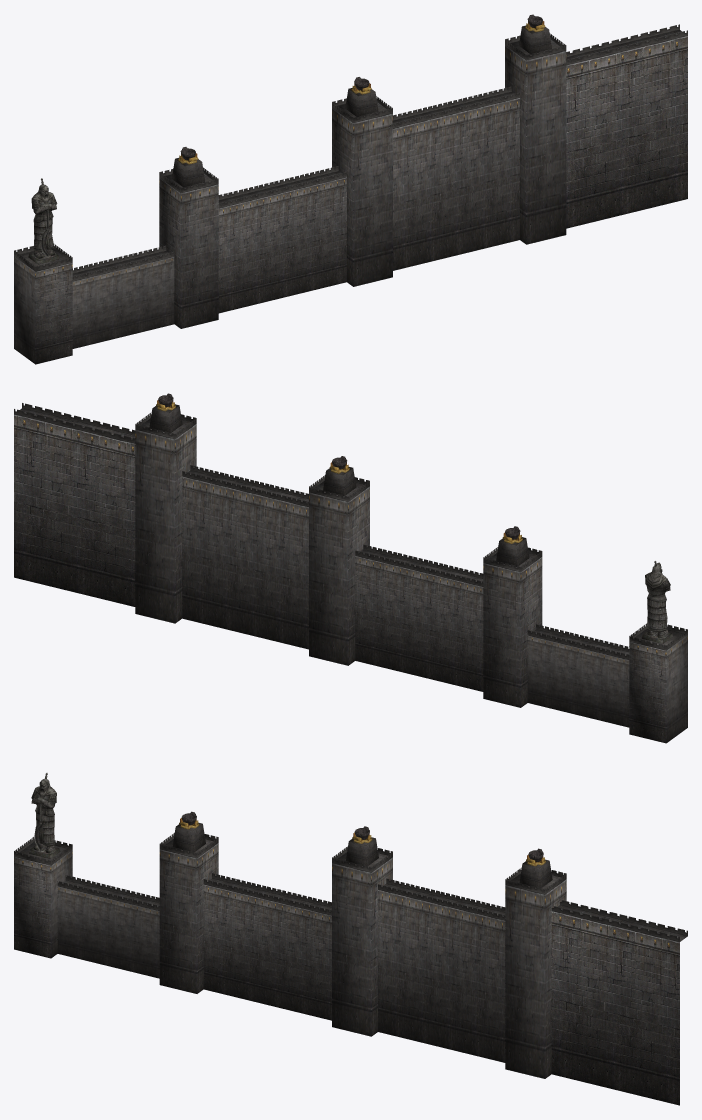
File: c_jin_wall3_orwall2.glb
The picture shows the model from 3 angles, top to bottom: view 1: azimuth 30°, elevation 25°; view 2: azimuth 150°, elevation 25°; view 3: azimuth 330°, elevation 25°; orthographic projection.
Parts seen in each view (by area): view 1: C_jin_wall3_orwall2, C_jin_wall3_ealpha2, C_jin_wall3_master2, C_jin_wall3_fire2; view 2: C_jin_wall3_orwall2, C_jin_wall3_ealpha2, C_jin_wall3_master2, C_jin_wall3_fire2; view 3: C_jin_wall3_orwall2, C_jin_wall3_ealpha2, C_jin_wall3_master2, C_jin_wall3_fire2.
Part boxes in pixels (x1,y1,x2,y2): C_jin_wall3_orwall2: (14,25,687,364); C_jin_wall3_ealpha2: (14,24,687,281); C_jin_wall3_master2: (28,178,59,264); C_jin_wall3_fire2: (178,14,545,164); C_jin_wall3_orwall2: (14,404,687,743); C_jin_wall3_ealpha2: (14,403,687,659); C_jin_wall3_master2: (641,561,672,643); C_jin_wall3_fire2: (156,393,522,543); C_jin_wall3_orwall2: (14,822,687,1105); C_jin_wall3_ealpha2: (14,833,687,941); C_jin_wall3_master2: (29,773,60,858); C_jin_wall3_fire2: (179,811,545,866).
Size of the model in its own units: 278 by 86.19 by 15.72.
Materials: 4 (4 with a texture image).
